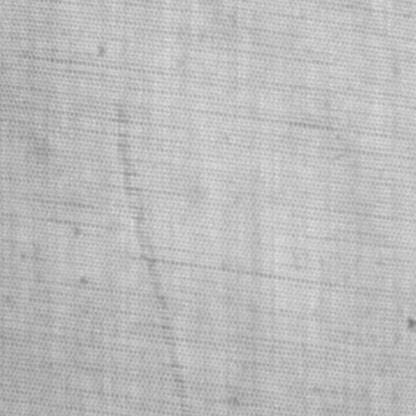oil spot: (110, 100, 190, 414)
